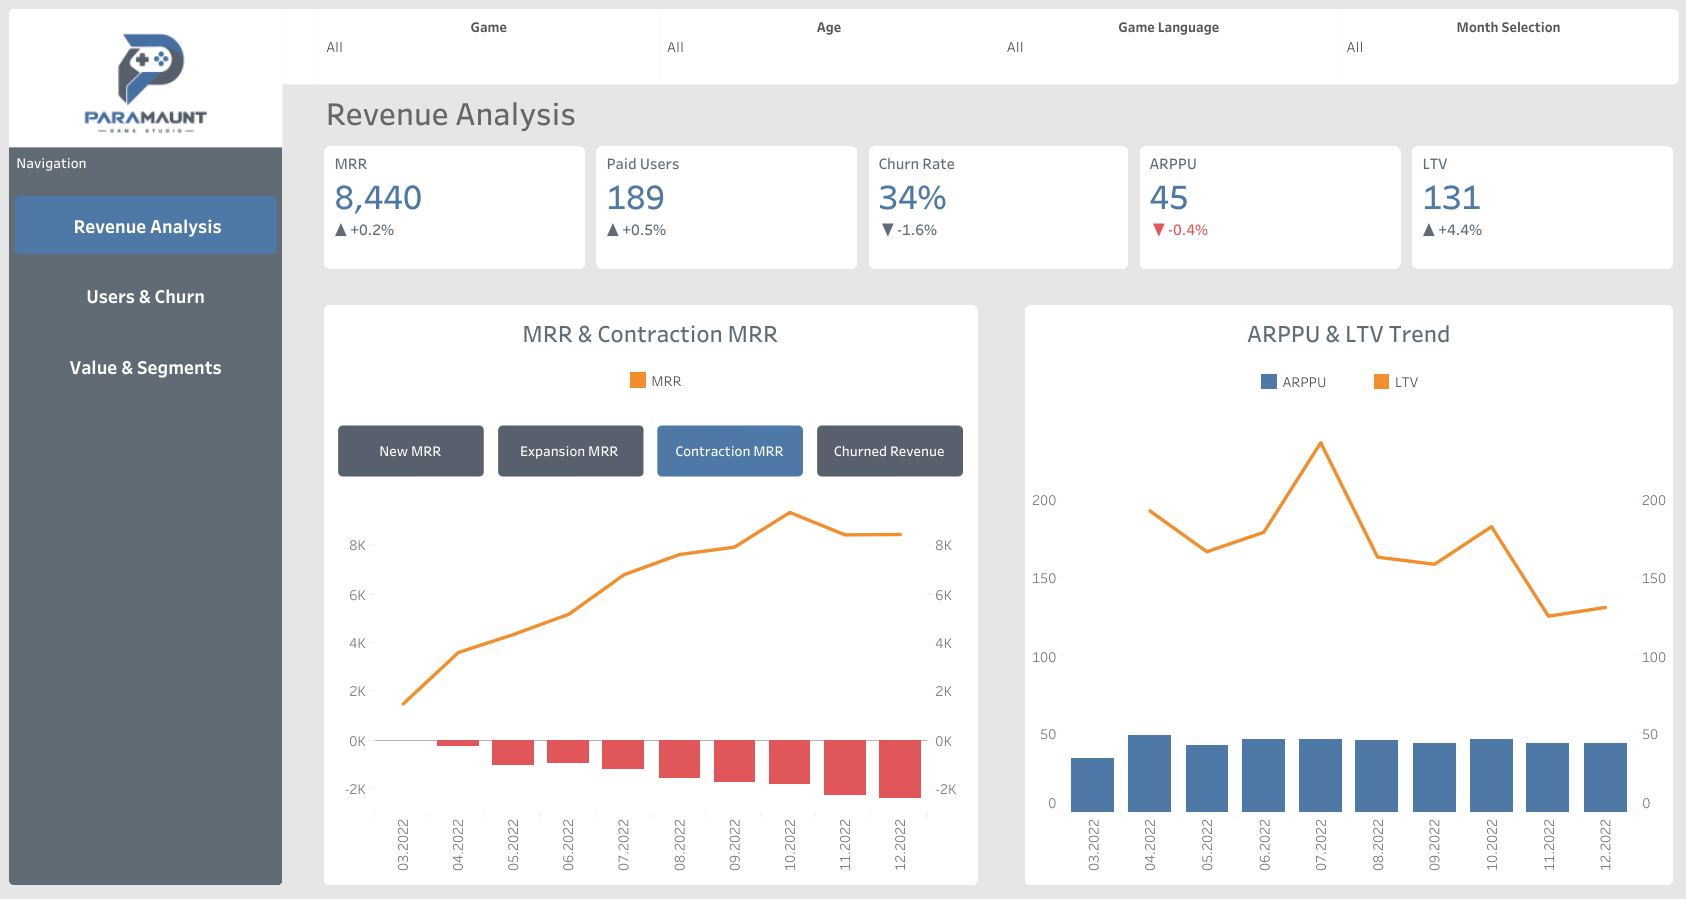

What the dashboard file says about the page in this screenshot:
{"tool":"tableau","page":{"name":"Revenue Analysis","canvas":[1500,800],"ordinal":0},"visuals":[{"type":"image","param":"C:/Users/laptopb_user/Downloads/Paramount GS Logo.png","box":[8,8,243,123]},{"type":"blank","box":[251,8,32,67]},{"type":"filter","title":"Revenue Movement","param":"[federated.17iy6v41999ia91auoh6q1jcxmi7].[none:game_name:nk]","box":[283,8,303,67]},{"type":"filter","title":"ARPPU","param":"[federated.17iy6v41999ia91auoh6q1jcxmi7].[none:Calculation_0565194128855040:nk]","box":[586,8,302,67]},{"type":"filter","title":"Revenue Movement","param":"[federated.17iy6v41999ia91auoh6q1jcxmi7].[none:lang:nk]","box":[888,8,302,67]},{"type":"filter","title":"Revenue Movement","param":"[federated.17iy6v41999ia91auoh6q1jcxmi7].[my:payment_month:ok]","box":[1190,8,302,67]},{"type":"blank","box":[251,75,32,717]},{"type":"text","box":[283,75,1209,50]},{"type":"worksheet","title":"MRR","mark":"Automatic","cols":["payment_month","payment_month"],"box":[283,125,241.8,119]},{"type":"worksheet","title":"Paid Users","mark":"Automatic","cols":["payment_month","payment_month"],"box":[524.8,125,241.8,119]},{"type":"worksheet","title":"Churn Rate","mark":"Automatic","cols":["payment_month","payment_month"],"box":[766.6,125,241.8,119]},{"type":"worksheet","title":"ARPPU","mark":"Automatic","cols":["payment_month","payment_month"],"box":[1008.4,125,241.8,119]},{"type":"worksheet","title":"LTV","mark":"Automatic","cols":["payment_month","payment_month"],"box":[1250.2,125,241.8,119]},{"type":"text","box":[8,131,243,43]},{"type":"dashboard-object","box":[8,174,243,62]},{"type":"dashboard-object","box":[8,236,243,62]},{"type":"blank","box":[283,244,1209,22]},{"type":"worksheet","title":"Revenue Movement","mark":"Automatic","rows":["Calculation_0089380031733760"],"cols":["payment_month"],"box":[283,266,591.3,526]},{"type":"blank","box":[874.4,266,31.6,526]},{"type":"worksheet","title":"ARPPU & LTV Trend","mark":"Automatic","rows":["Calculation_0089380031987713"],"cols":["payment_month"],"box":[906,266,586,526]},{"type":"dashboard-object","box":[8,298,243,64]},{"type":"legend","title":"Revenue Movement","param":"[federated.17iy6v41999ia91auoh6q1jcxmi7].[:Measure Names]","box":[545,329,68,25]},{"type":"legend","title":"ARPPU & LTV Trend","param":"[federated.17iy6v41999ia91auoh6q1jcxmi7].[:Measure Names]","box":[1118,329,204,28]},{"type":"worksheet","title":"param_revenue_metric","mark":"Shape","cols":["Calculation_0550900151824416","Calculation_0550900151824416","Calculation_0550900151824416","Calculation_0550900151824416"],"box":[294,355,568,91]}]}

Visuals, with their boxes in screenshot pixels (x1, y1, x2, y2), scaled from the page's 1500x800 canvas onto the 1686x899 screenshot:
image: select_region(9, 9, 282, 147)
blank: select_region(282, 9, 318, 84)
"Revenue Movement" filter: select_region(318, 9, 659, 84)
"ARPPU" filter: select_region(659, 9, 998, 84)
"Revenue Movement" filter: select_region(998, 9, 1338, 84)
"Revenue Movement" filter: select_region(1338, 9, 1677, 84)
blank: select_region(282, 84, 318, 890)
text: select_region(318, 84, 1677, 140)
"MRR" worksheet: select_region(318, 140, 590, 274)
"Paid Users" worksheet: select_region(590, 140, 862, 274)
"Churn Rate" worksheet: select_region(862, 140, 1133, 274)
"ARPPU" worksheet: select_region(1133, 140, 1405, 274)
"LTV" worksheet: select_region(1405, 140, 1677, 274)
text: select_region(9, 147, 282, 196)
dashboard-object: select_region(9, 196, 282, 265)
dashboard-object: select_region(9, 265, 282, 335)
blank: select_region(318, 274, 1677, 299)
"Revenue Movement" worksheet: select_region(318, 299, 983, 890)
blank: select_region(983, 299, 1018, 890)
"ARPPU & LTV Trend" worksheet: select_region(1018, 299, 1677, 890)
dashboard-object: select_region(9, 335, 282, 407)
"Revenue Movement" legend: select_region(613, 370, 689, 398)
"ARPPU & LTV Trend" legend: select_region(1257, 370, 1486, 401)
"param_revenue_metric" worksheet (Shape marks): select_region(330, 399, 969, 501)
